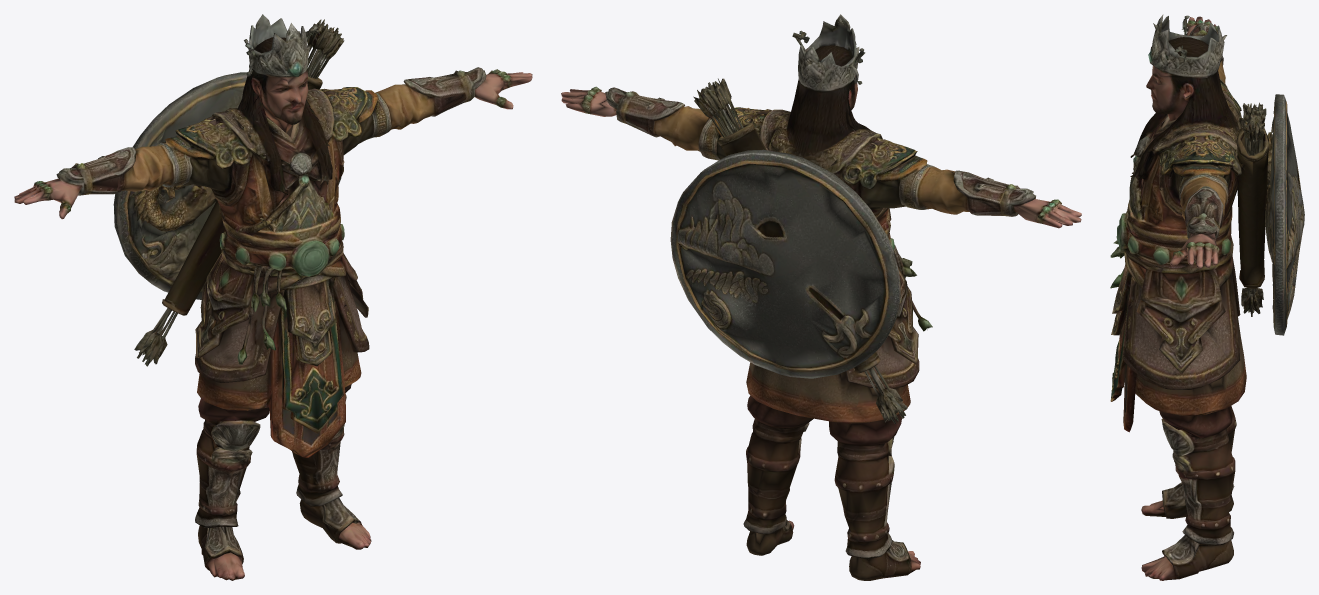
Rendered from son-tinh.glb.
The picture shows the model from 3 angles, left to right: view 1: azimuth 30°, elevation 25°; view 2: azimuth 150°, elevation 25°; view 3: azimuth 270°, elevation 25°; orthographic projection.
Parts seen in each view (by area): view 1: tripo_node_4a1cc8cd-1467-44a7-907e-a42f5b392a20; view 2: tripo_node_4a1cc8cd-1467-44a7-907e-a42f5b392a20; view 3: tripo_node_4a1cc8cd-1467-44a7-907e-a42f5b392a20.
Part boxes in pixels (x1=…): tripo_node_4a1cc8cd-1467-44a7-907e-a42f5b392a20: x1=14, y1=14, x2=532, y2=580; tripo_node_4a1cc8cd-1467-44a7-907e-a42f5b392a20: x1=561, y1=14, x2=1081, y2=580; tripo_node_4a1cc8cd-1467-44a7-907e-a42f5b392a20: x1=1110, y1=14, x2=1304, y2=580.
Bounding box in the file's own units: 0.9829 × 0.9743 × 0.3234.
Materials: 1 (1 with a texture image).
